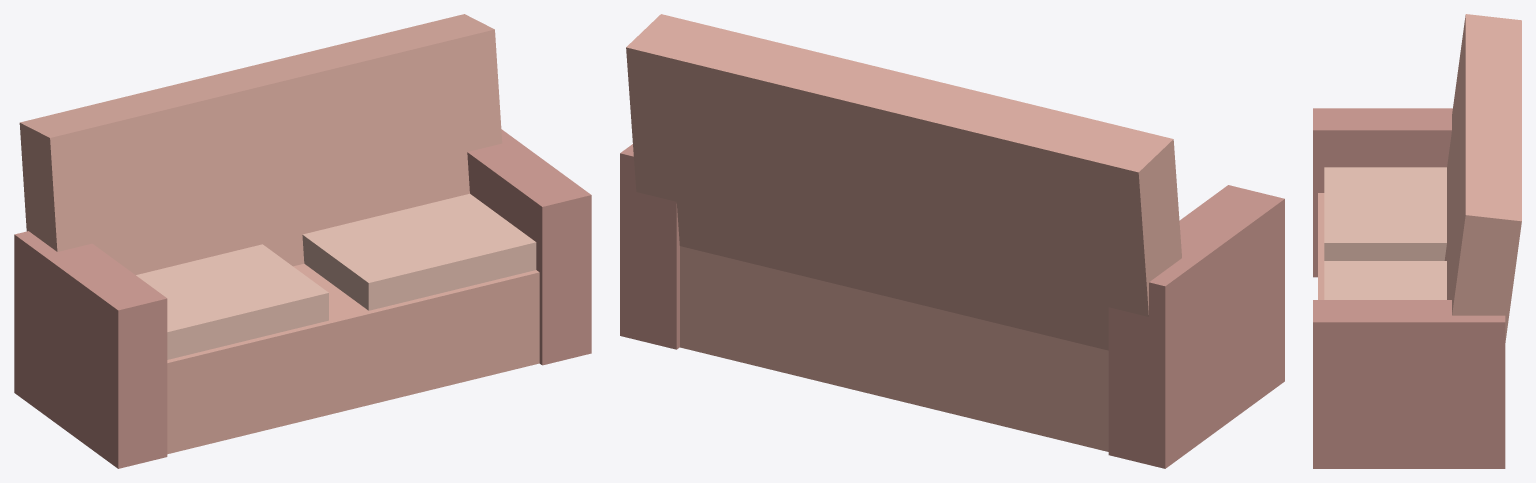
File: cozy-sofa.glb
The picture shows the model from 3 angles, left to right: view 1: azimuth 30°, elevation 25°; view 2: azimuth 150°, elevation 25°; view 3: azimuth 270°, elevation 25°; orthographic projection. The views are drawn at different scales.
Visible parts, largest first — view 1: sofa-back, sofa-seat, arm-left, cushion-right, arm-right, cushion-left; view 2: sofa-back, sofa-seat, arm-left, arm-right; view 3: arm-right, sofa-back, cushion-left, arm-left, cushion-right, sofa-seat.
Boxes of the visible parts, bbox=[...] form: sofa-back: bbox=[19, 14, 502, 274]; sofa-seat: bbox=[167, 263, 539, 454]; arm-left: bbox=[14, 231, 167, 468]; cushion-right: bbox=[302, 193, 536, 310]; arm-right: bbox=[467, 129, 591, 365]; cushion-left: bbox=[136, 244, 328, 359]; sofa-back: bbox=[626, 14, 1181, 350]; sofa-seat: bbox=[680, 246, 1108, 451]; arm-left: bbox=[1108, 185, 1284, 468]; arm-right: bbox=[620, 144, 679, 349]; arm-right: bbox=[1313, 300, 1505, 468]; sofa-back: bbox=[1444, 14, 1521, 342]; cushion-left: bbox=[1324, 167, 1446, 260]; arm-left: bbox=[1313, 108, 1452, 277]; cushion-right: bbox=[1324, 261, 1446, 299]; sofa-seat: bbox=[1318, 193, 1324, 299].
Bounding box in the file's own units: 2.5 × 1.35 × 1.03.
